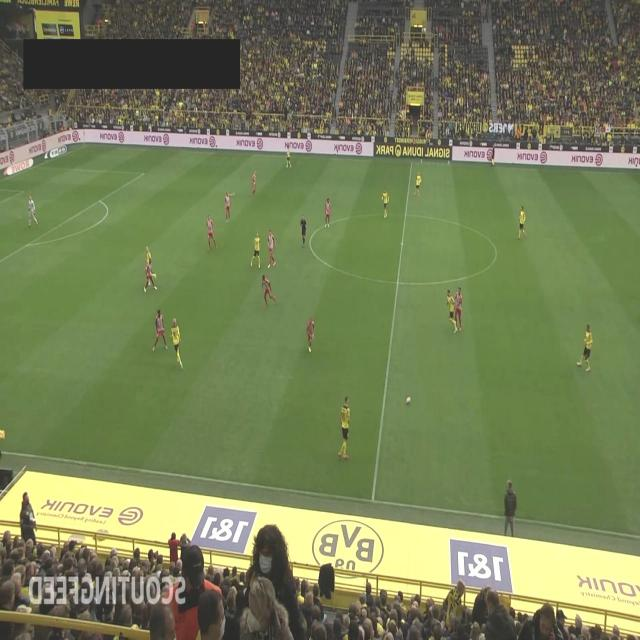goalkeeper: (28, 195, 38, 227)
player: (576, 324, 593, 372), (338, 396, 350, 459), (152, 308, 168, 352), (170, 318, 183, 369), (143, 258, 157, 293), (446, 289, 457, 333), (262, 274, 276, 308), (206, 214, 218, 251), (250, 231, 261, 269), (453, 286, 462, 332), (306, 316, 316, 352), (267, 228, 276, 268), (517, 205, 527, 240), (381, 188, 389, 218), (324, 198, 332, 228), (413, 171, 422, 197), (224, 191, 230, 223), (285, 146, 291, 168), (252, 170, 256, 196)
referee: (300, 213, 308, 247), (489, 144, 496, 170)
